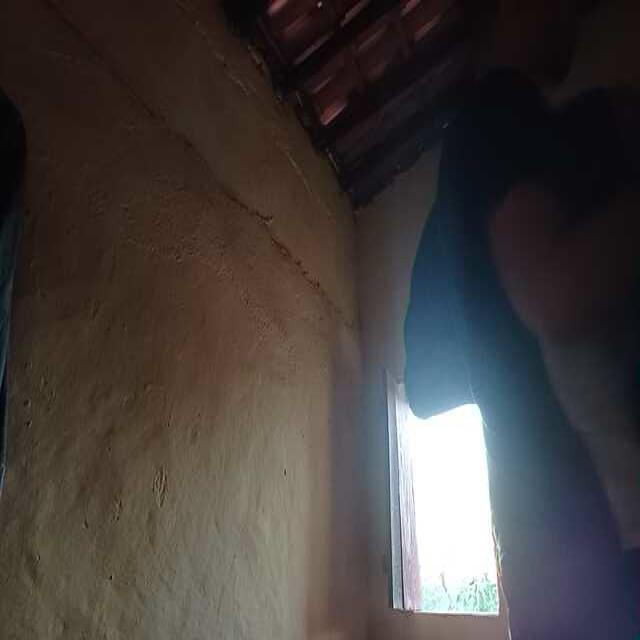pessoa: (470, 1, 640, 640)
